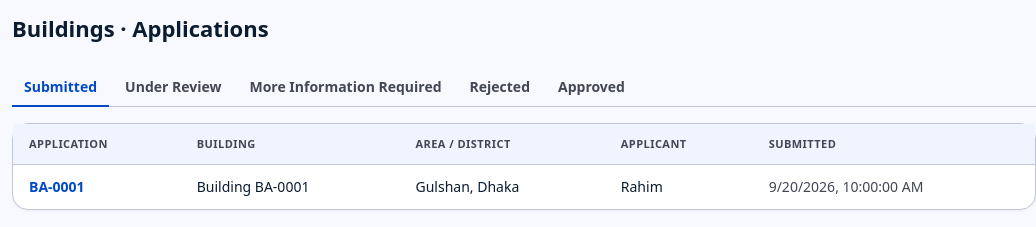
Test case: ApplicationsScreen › lists the initial tab and switches status tabs
Expected: the button "BA-0001" is shown, [29,177,85,197]
Click the tab "Rejected" at (500, 88), box [458,69,542,107]
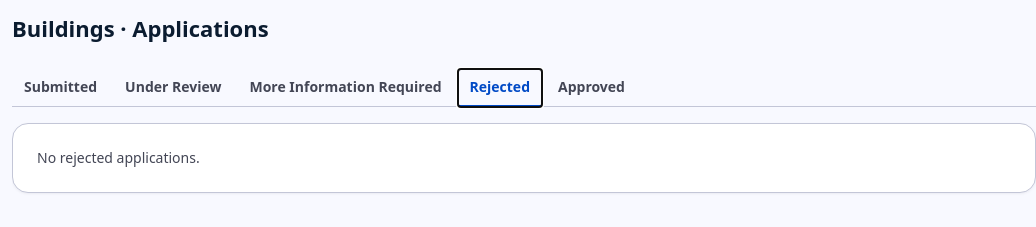
Now the text "No rejected applications." is shown, box [37,148,200,167]
